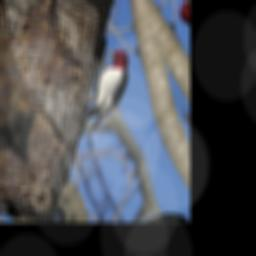Woodpecker: (63, 34, 148, 137)
